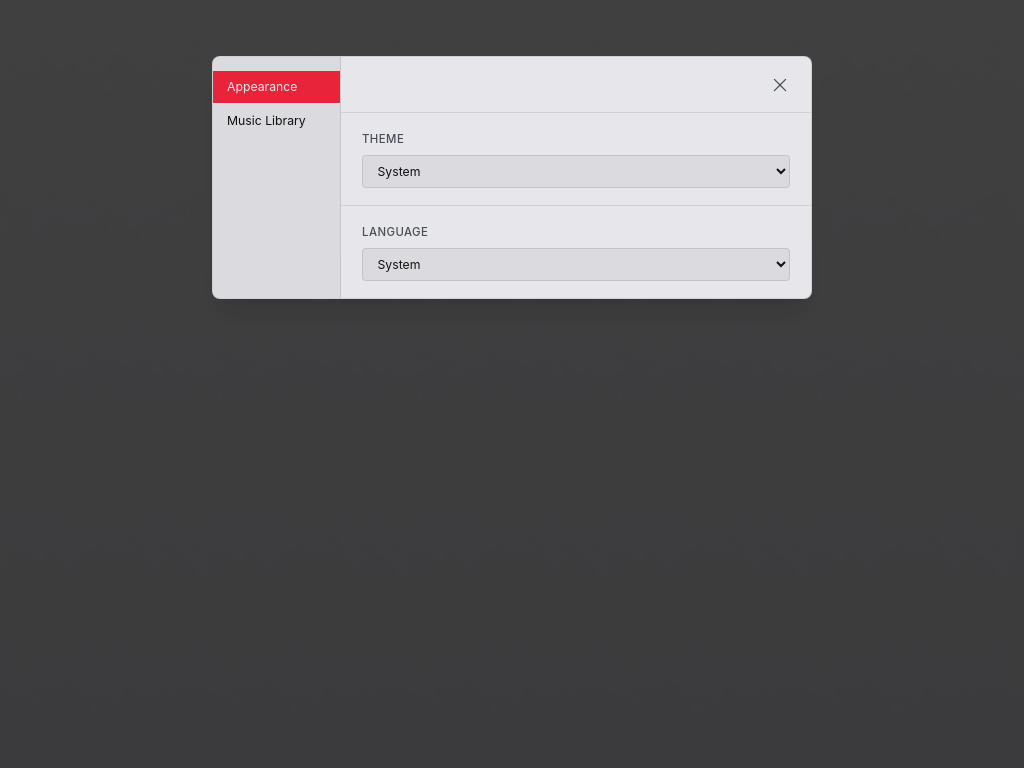
Settings Component › Rendering › renders Library Folder label
Click the button "Music Library" at (276, 121), box [213,105,340,138]
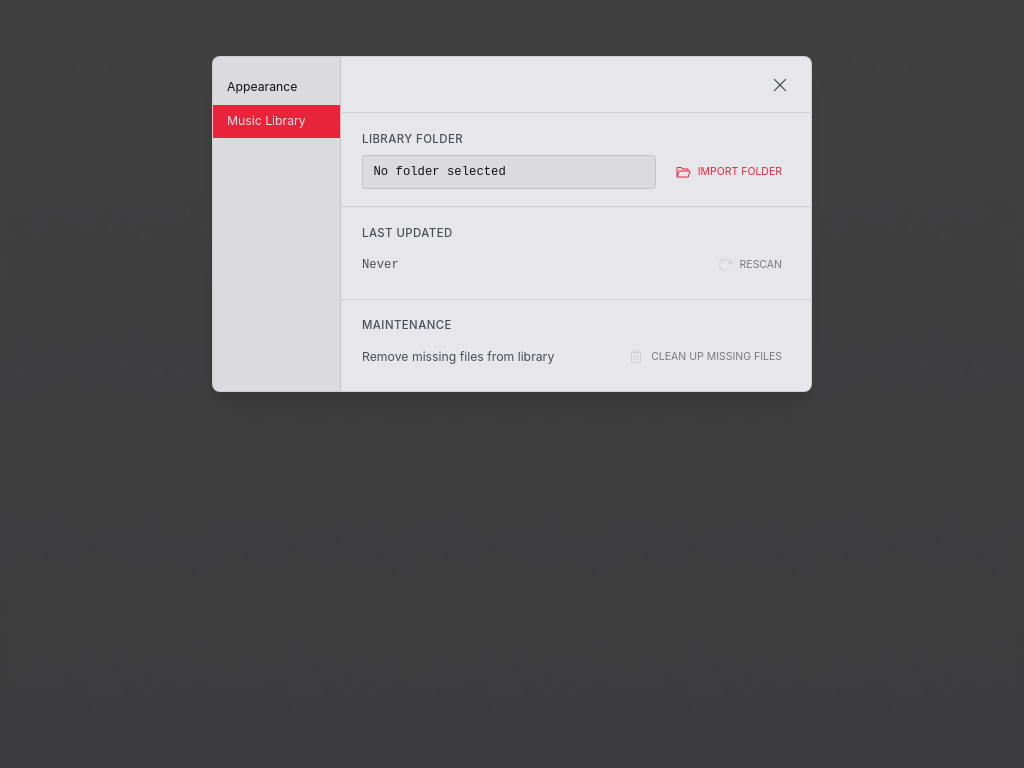
Expected: the text "Library Folder" is shown, [362,132,463,146]
